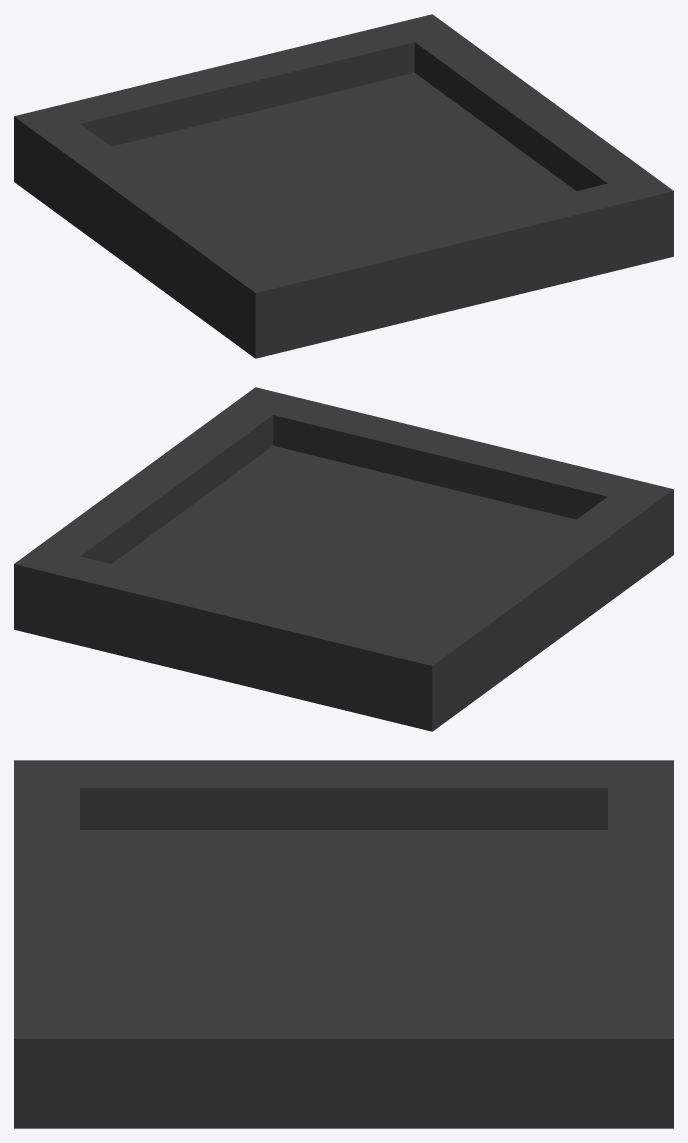
Rendered from Tile_base.fbx.
3 views of the same model, one above another, from view 1: azimuth 30°, elevation 25°; view 2: azimuth 150°, elevation 25°; view 3: azimuth 270°, elevation 25° (orthographic). The views are drawn at different scales.
Parts seen in each view (by area): view 1: SM_base; view 2: SM_base; view 3: SM_base.
Part boxes in pixels (<box>): SM_base: <box>14,14,673,358</box>; SM_base: <box>14,387,673,731</box>; SM_base: <box>14,760,673,1128</box>.
Size of the model in its own units: 100 by 15 by 100.
Materials: 1 (1 with a texture image).
